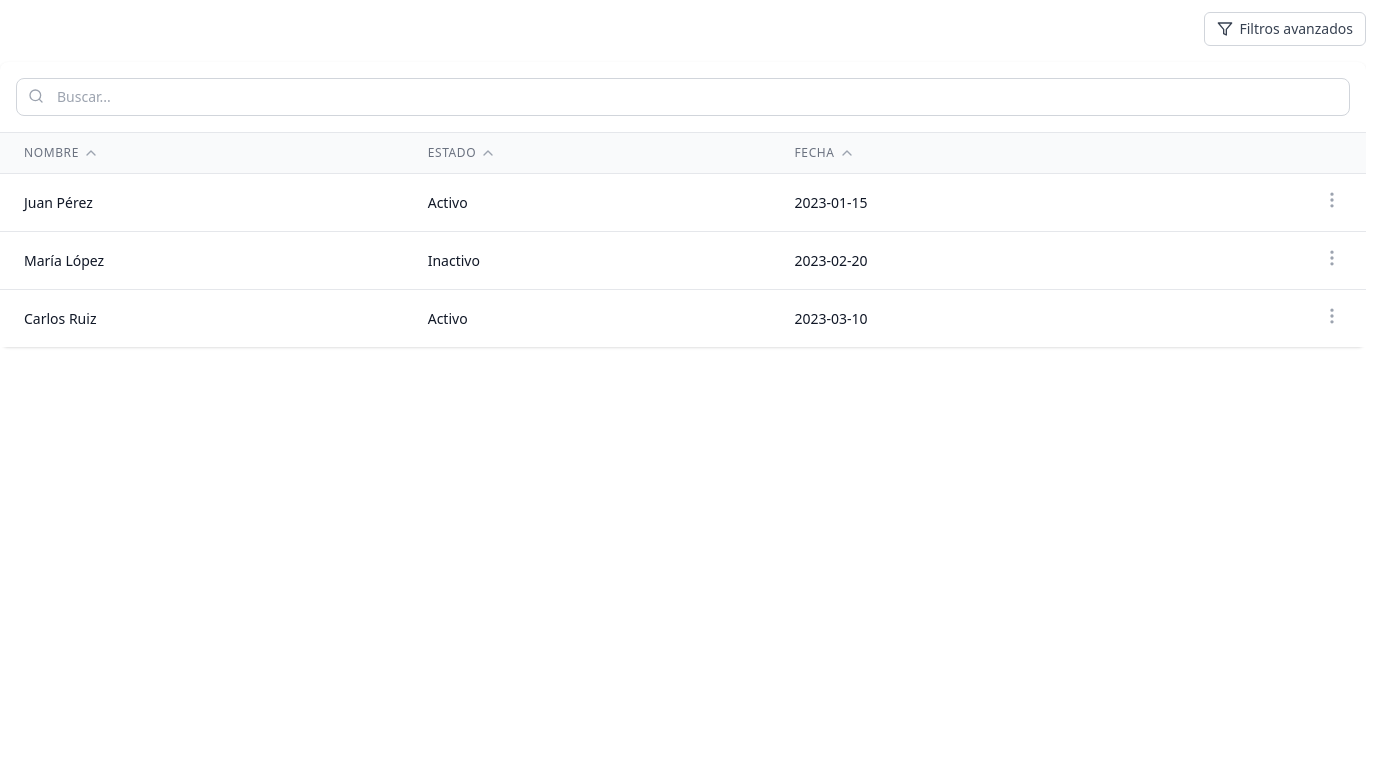
Scenario: FilterableTable Component › filters data by name when text filter is applied
# Hacer clic en el botón de filtros
Click the button "Filtros avanzados". click: (1285, 29)
box: [1204,12,1366,46]
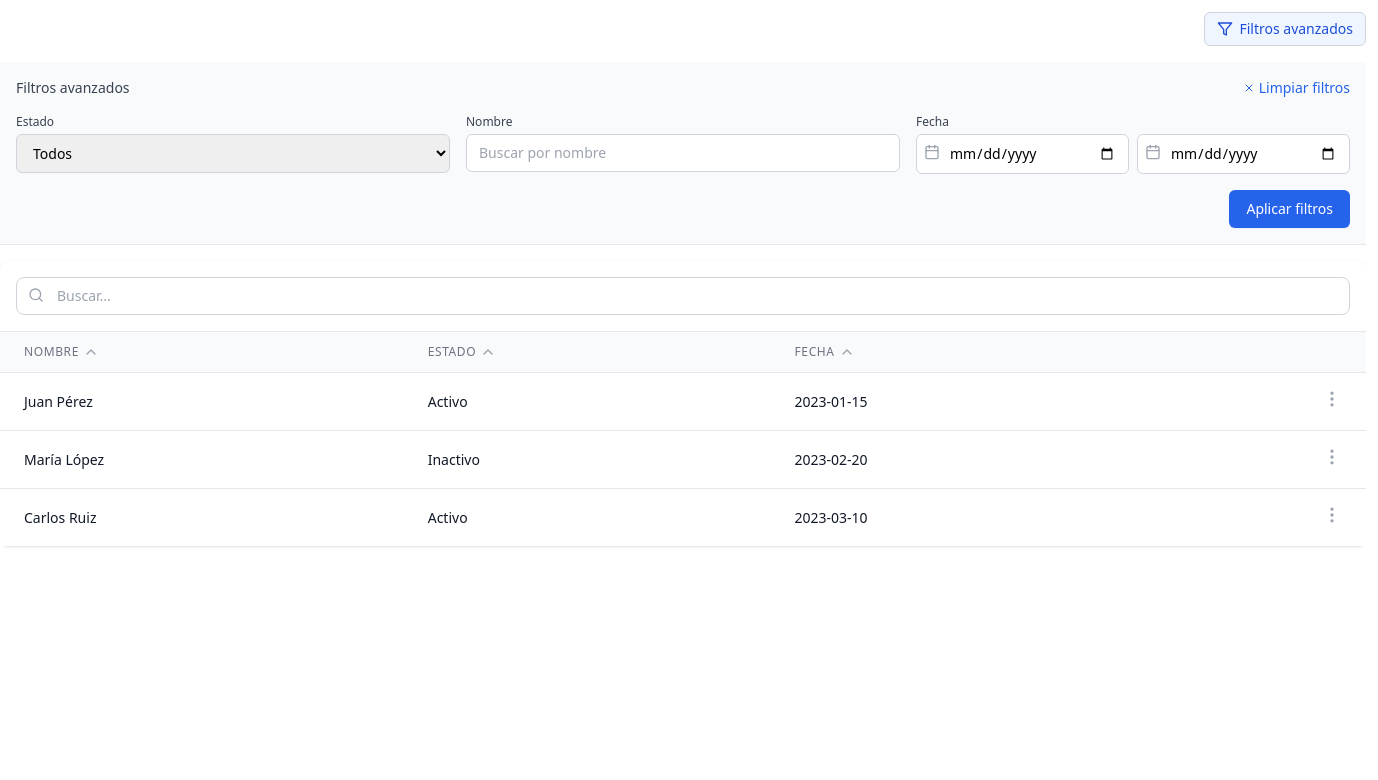
# Ingresar texto en el filtro de nombre
Type "Juan" into the field with placeholder "Buscar por nombre". click: (683, 153)
box: [466,134,900,172]
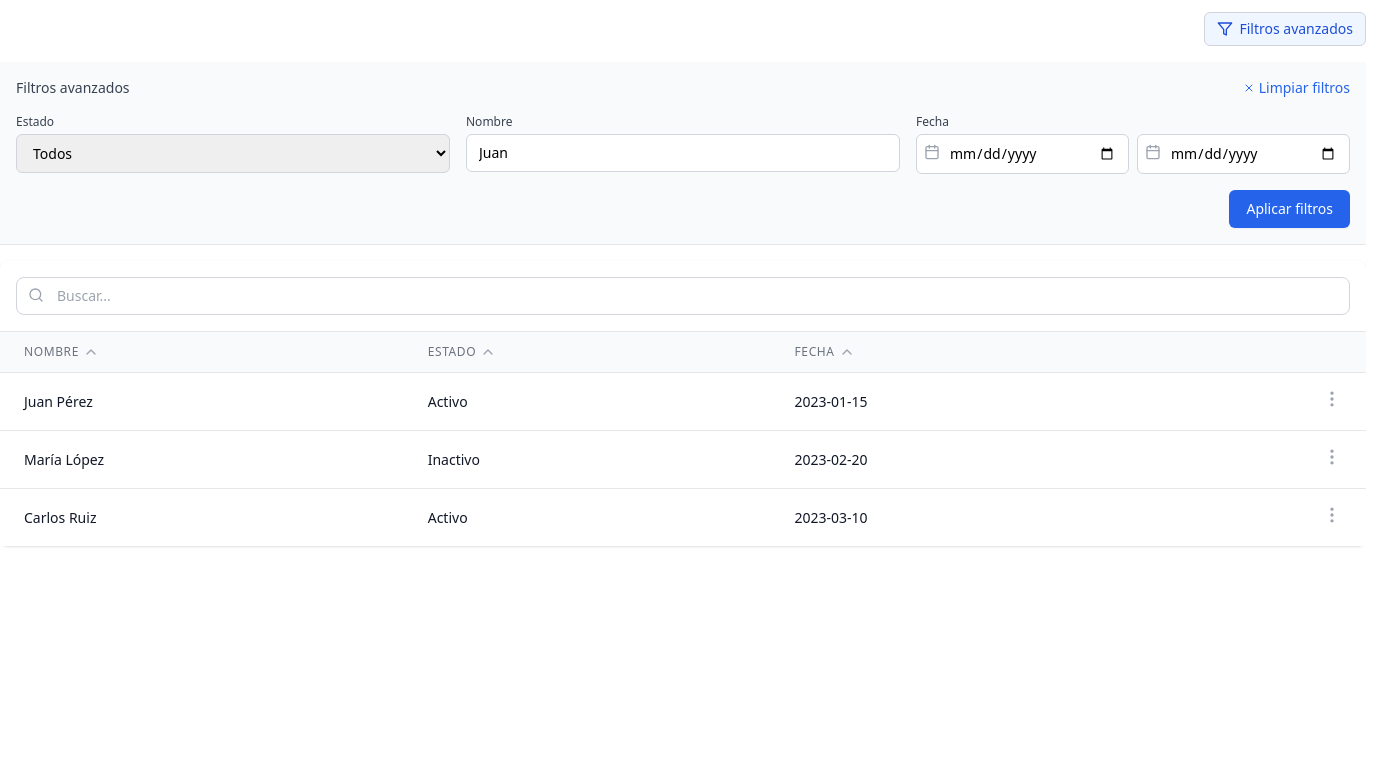
# Hacer clic en el botón para aplicar filtros
Click the button "Aplicar filtros". click: (1290, 209)
box: [1229,190,1350,228]
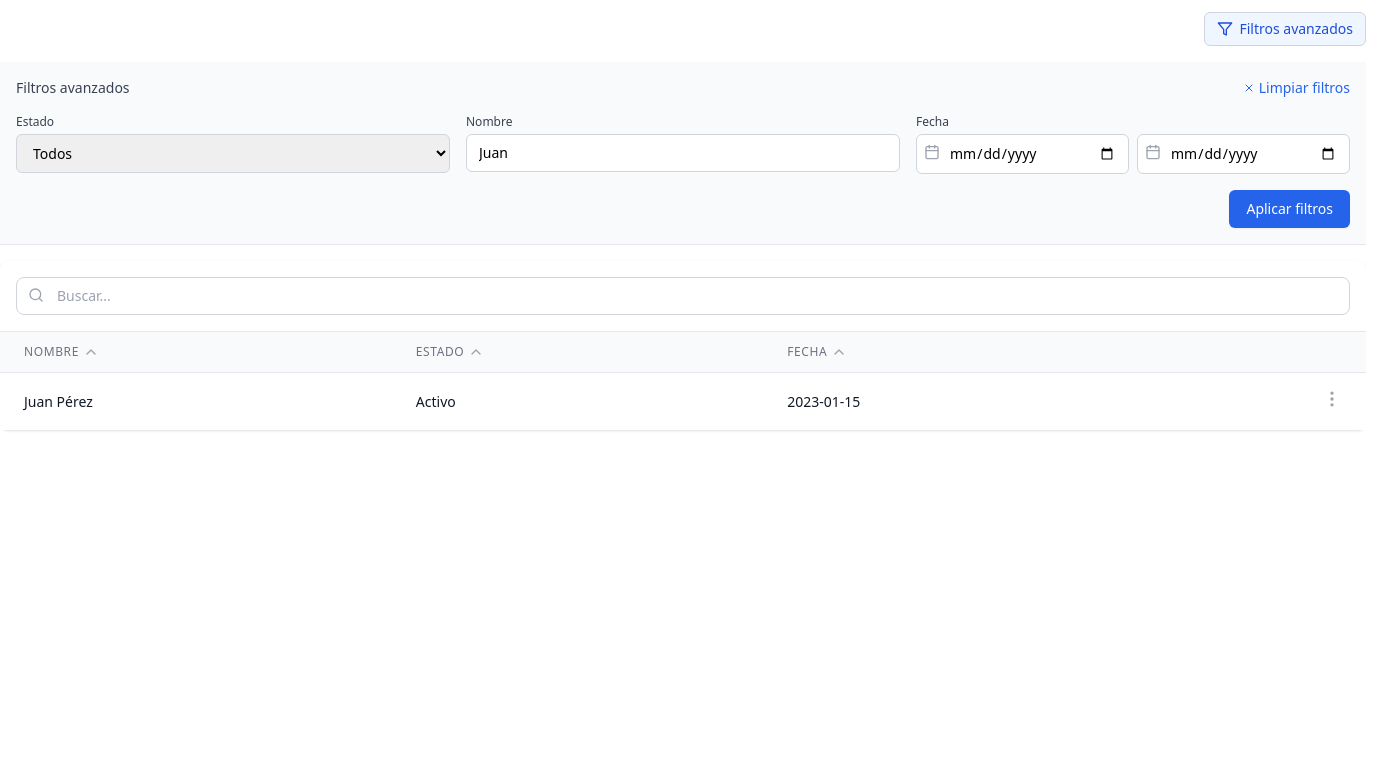
expect the text "Juan Pérez" is shown: met, box [0,372,392,430]
expect the text "María López" is gone: met
expect the text "Carlos Ruiz" is gone: met
